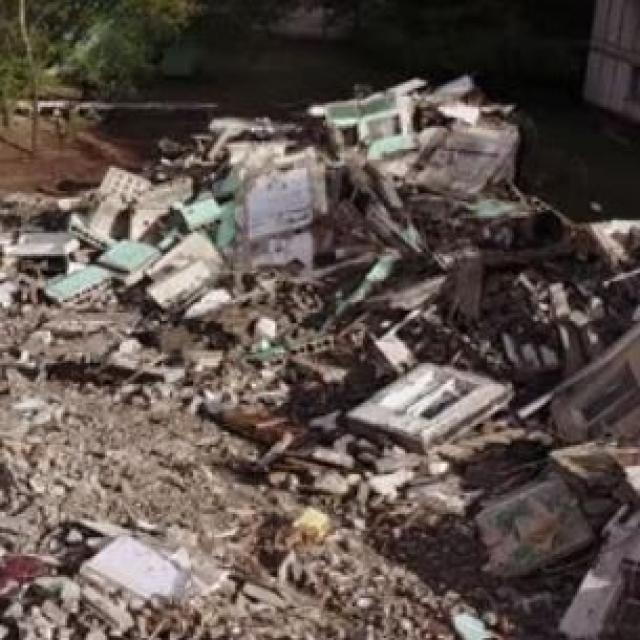collapsed_building: (38, 90, 612, 581)
